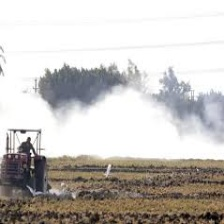smoke: (9, 97, 224, 162)
